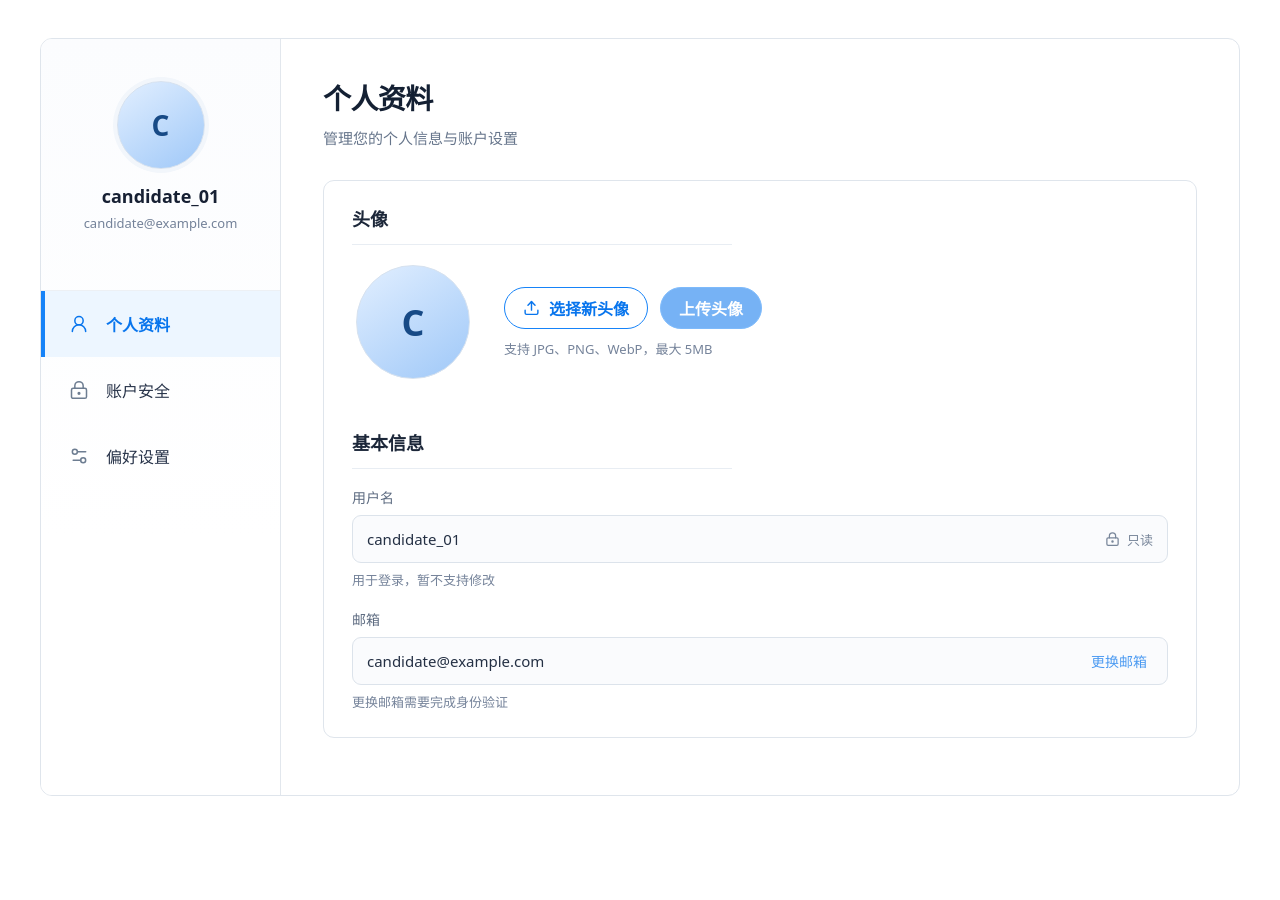
ProfileCenter › describes the persisted theme controls available from the account menu
Click the button "偏好设置" at (160, 456), box [41,423,280,489]
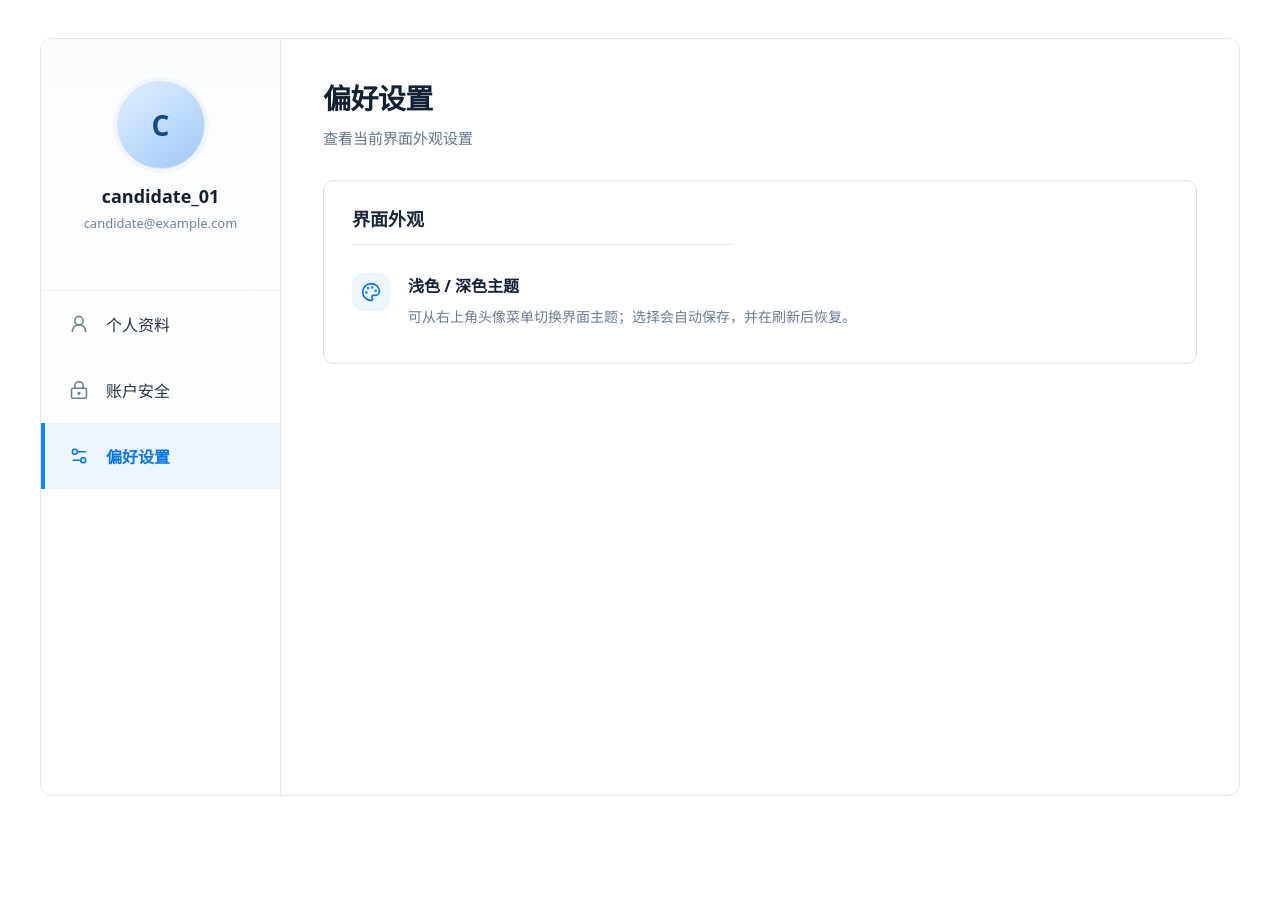
Check: the text "浅色 / 深色主题" is shown, box [408,275,519,297]
Check: the text "可从右上角头像菜单切换界面主题；选择会自动保存，并在刷新后恢复。" is shown, box [408,305,856,329]
